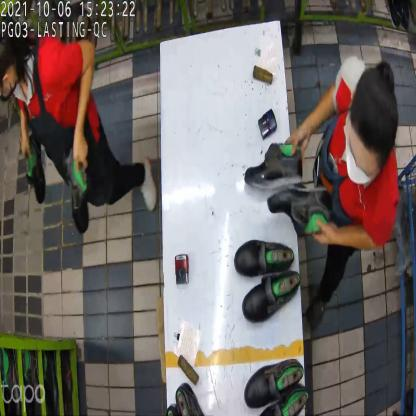shoes: (245, 146, 334, 235), (22, 136, 95, 232), (237, 234, 298, 321), (245, 354, 308, 416)
stamp: (258, 108, 278, 141), (173, 253, 192, 286)
